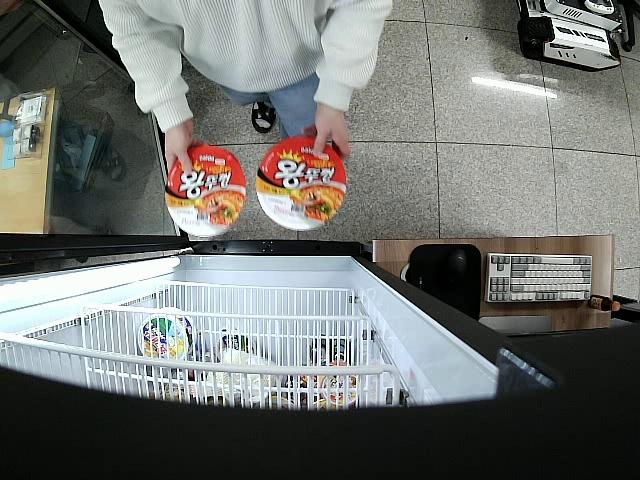00_hand: (305, 98, 353, 164), (163, 125, 205, 176)
10_wangTtukkeong: (257, 136, 346, 230), (165, 144, 248, 235)
